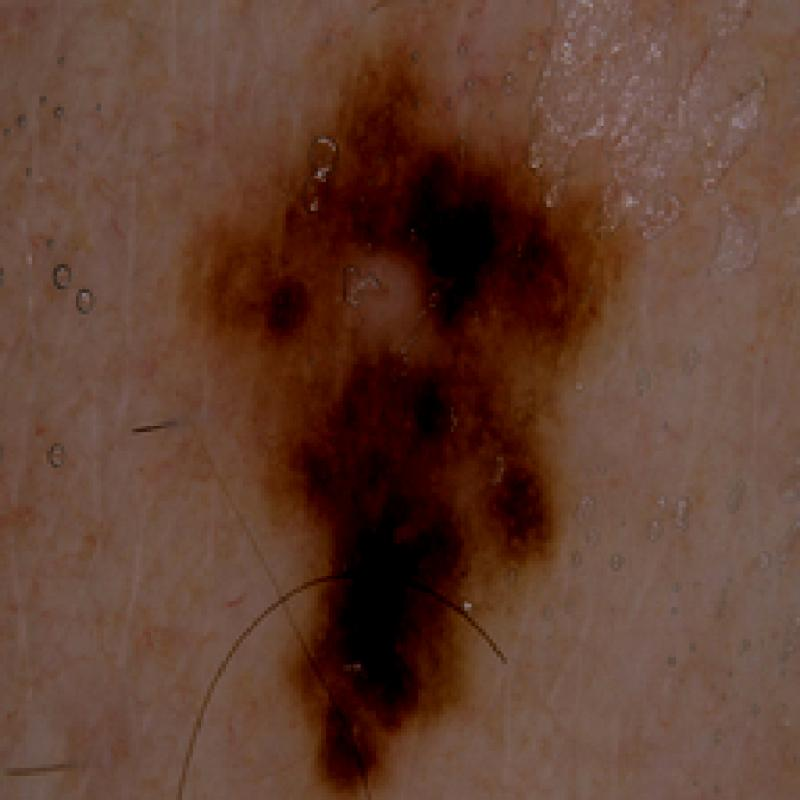benign: (172, 51, 616, 782)
